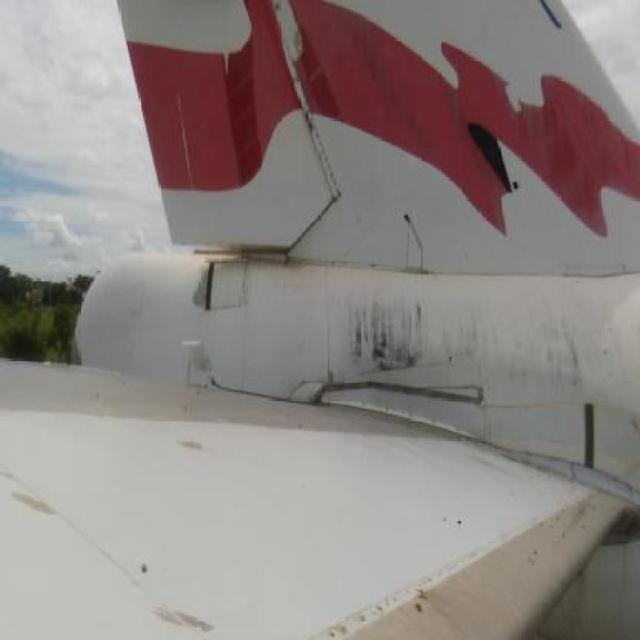Missing-Rivet: (358, 391, 465, 437), (279, 33, 304, 107), (305, 102, 326, 162), (324, 155, 342, 203)
Rust: (325, 272, 627, 403), (290, 96, 332, 144)
Scartch: (142, 581, 229, 640), (4, 457, 67, 534), (176, 420, 227, 472), (188, 258, 220, 318)
